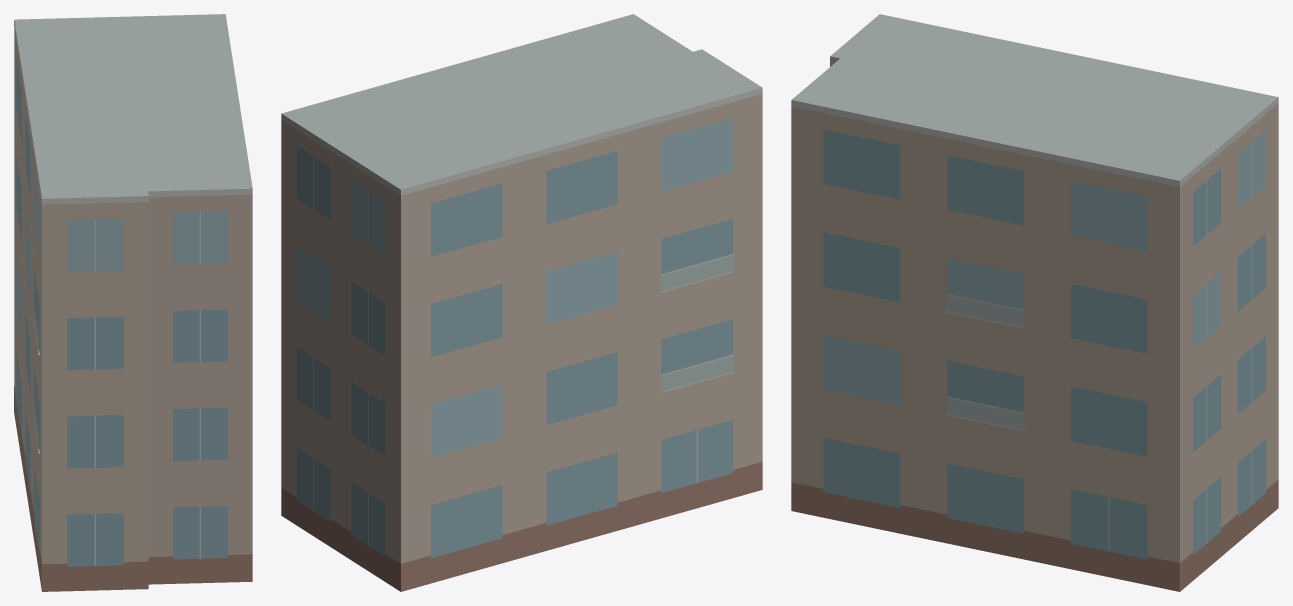
Rendered from survey-upis-32811154.glb.
3 renders of one model, left to right at view 1: azimuth 30°, elevation 25°; view 2: azimuth 150°, elevation 25°; view 3: azimuth 270°, elevation 25°, orthographic. The views are drawn at different scales.
Parts seen in each view (by area): view 1: survey-upis-32811154.tmp; view 2: survey-upis-32811154.tmp; view 3: survey-upis-32811154.tmp.
Boxes of the visible parts, x1,y1,x2,y2 form: survey-upis-32811154.tmp: [14, 14, 252, 591]; survey-upis-32811154.tmp: [281, 14, 762, 591]; survey-upis-32811154.tmp: [791, 14, 1278, 591].
Bounding box in the file's own units: 14.12 × 16.2 × 17.41.
